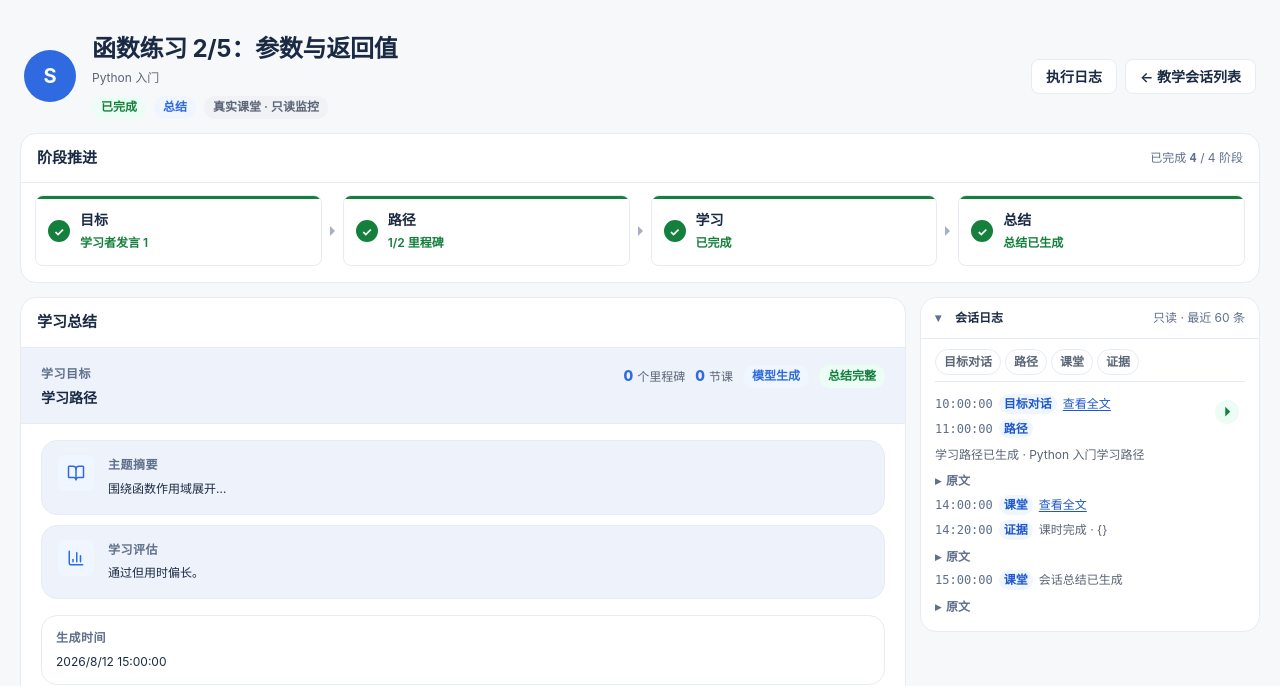
it: SessionCockpit 双模式 › 课堂转录按 markdown 渲染（用户「md没渲染」）：代码围栏出 pre，不露 ``` 原文
The width and height of the screenshot is (1280, 686).
Click the tab with class "cp-stp" showing "✓ 学习 已完成": (714, 243) left=650, top=195, right=937, bottom=266
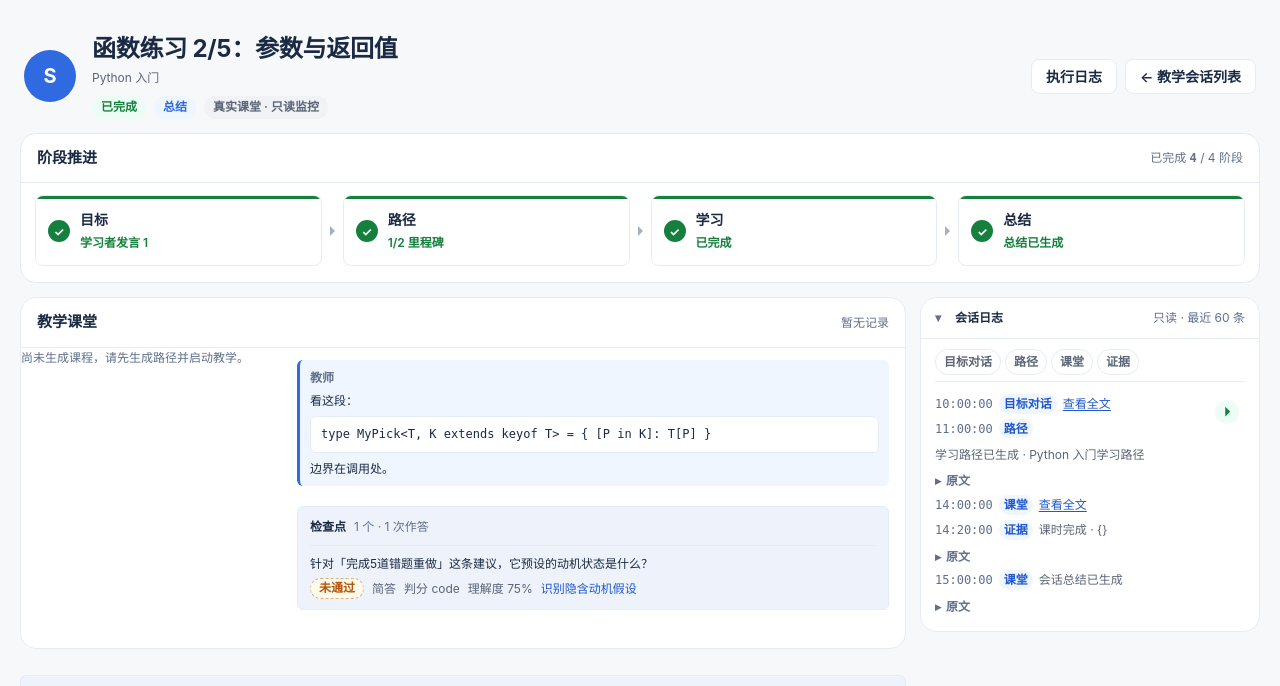
Expected: the text "type MyPick<T, K extends keyof T> = { [P in K]: T[P] }" is shown, left=321, top=427, right=711, bottom=441
